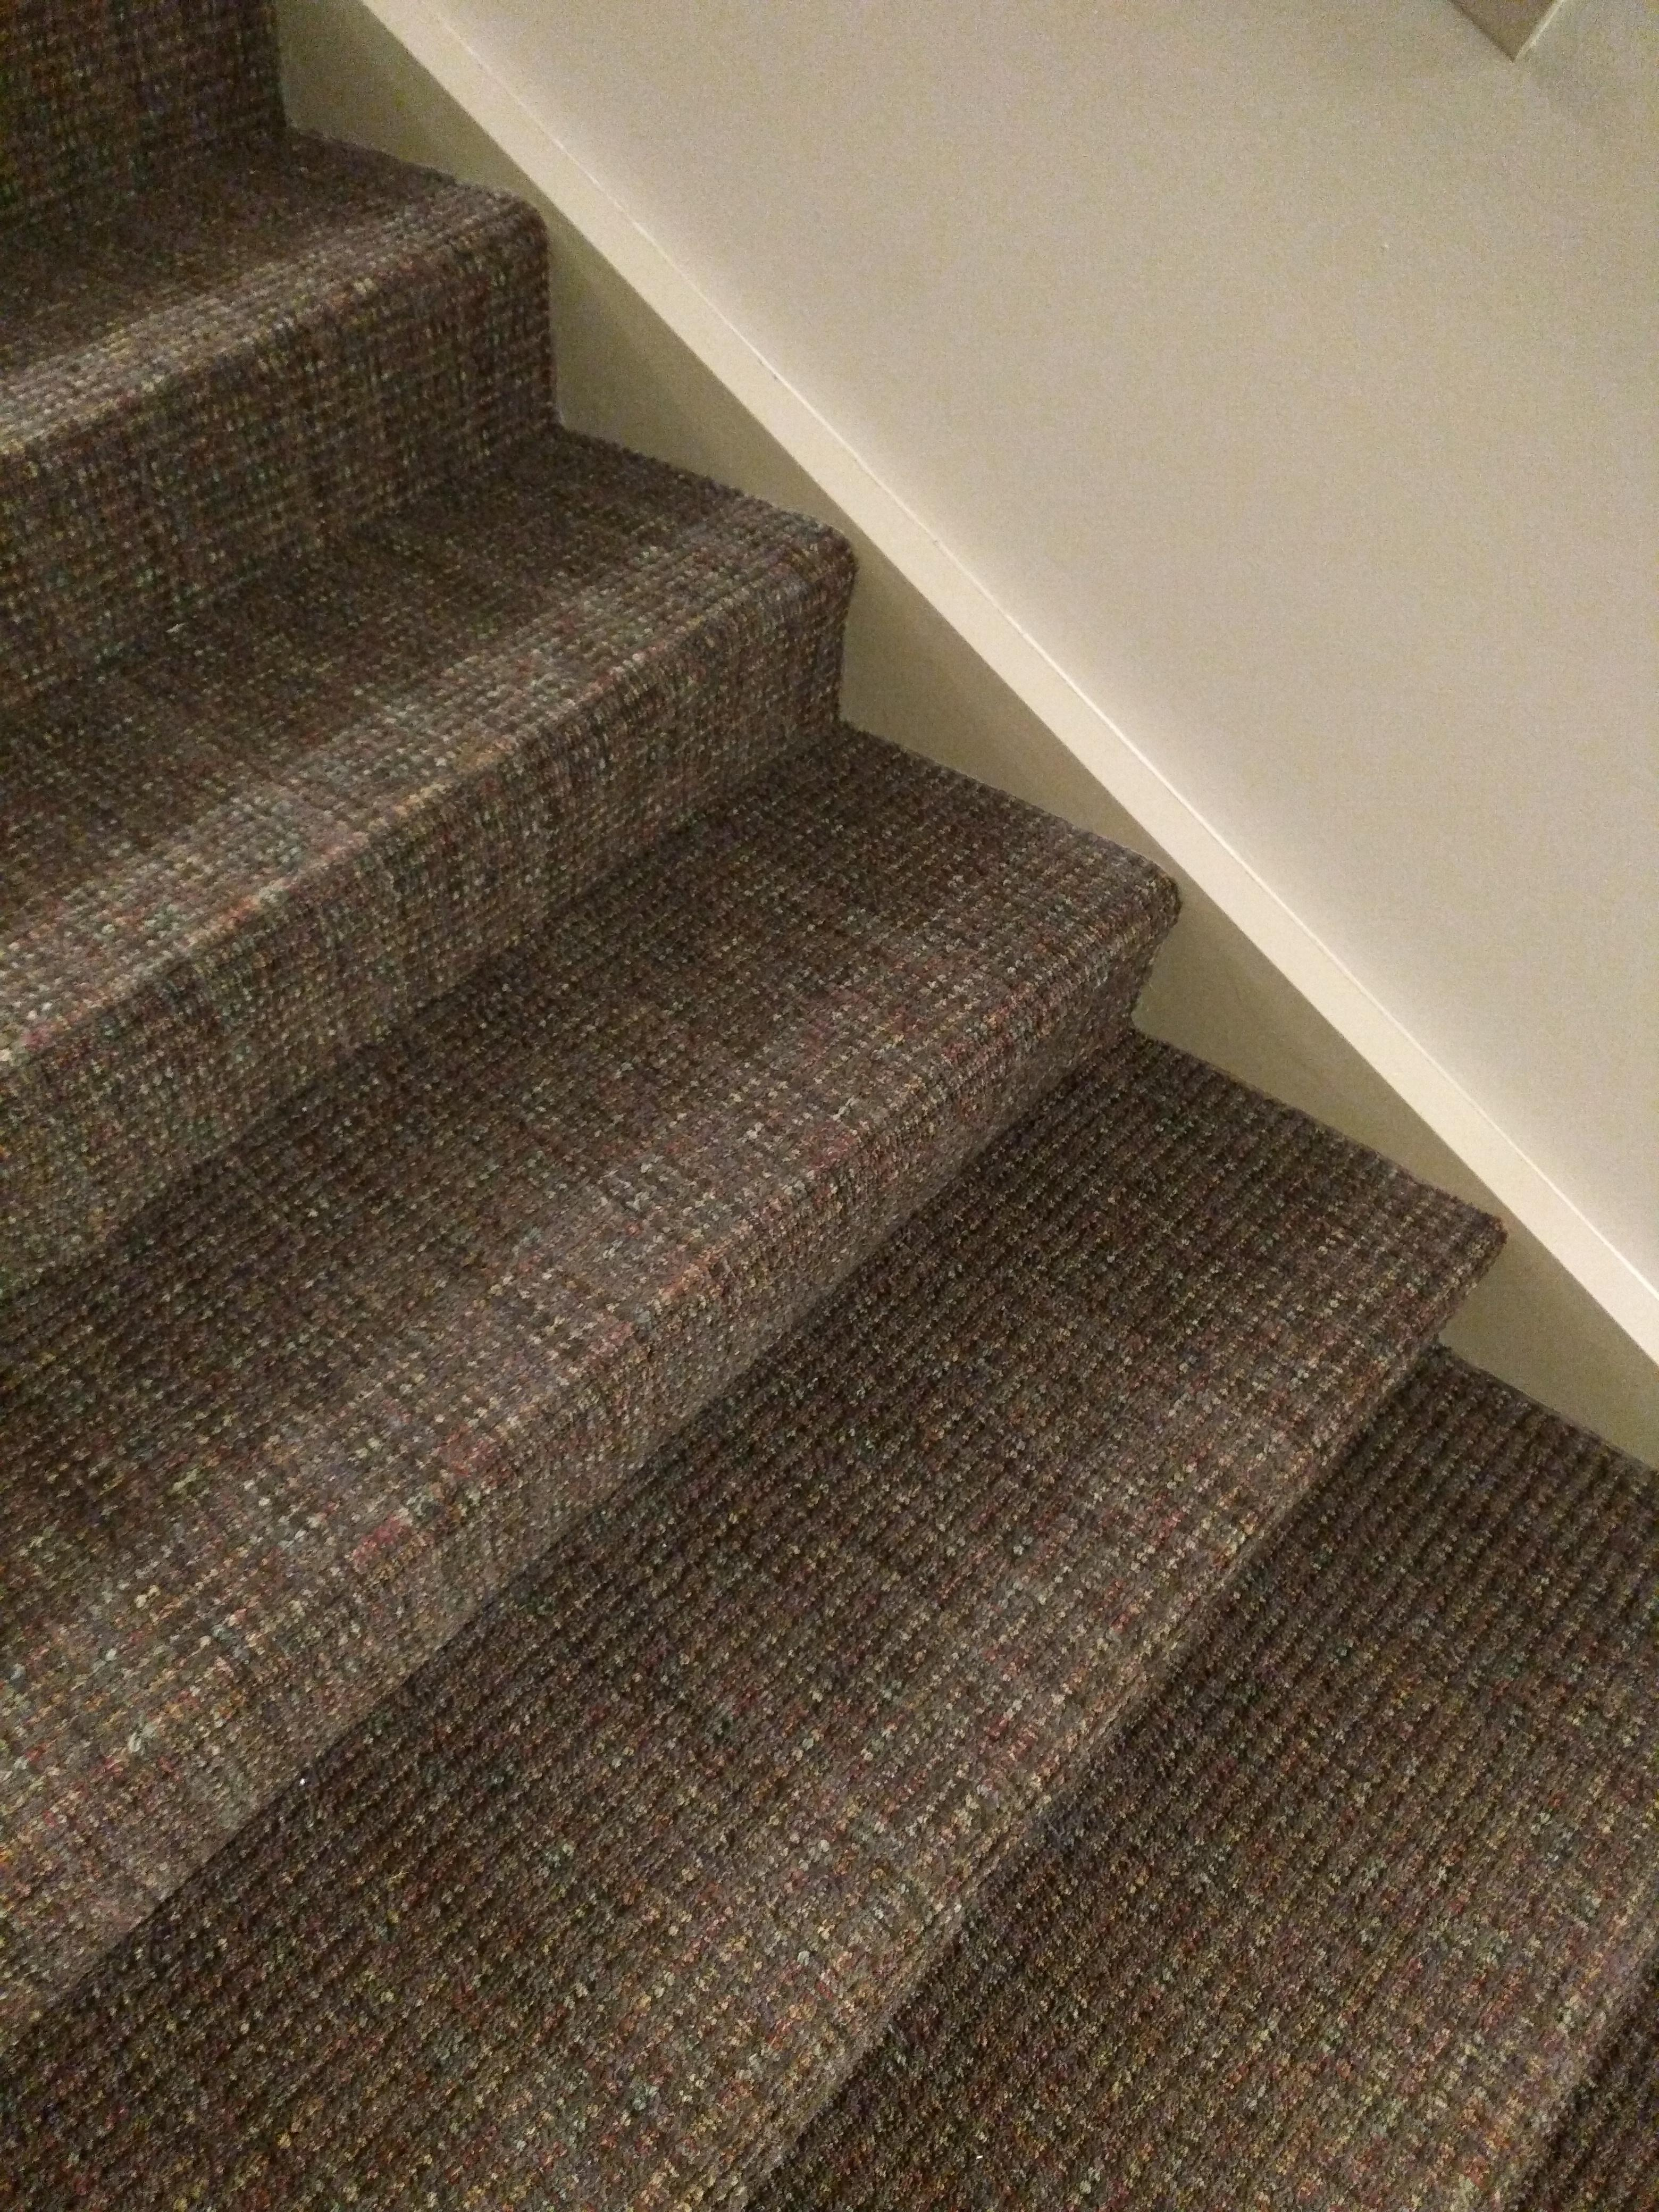stairs_up: (0, 157, 1650, 2189)
